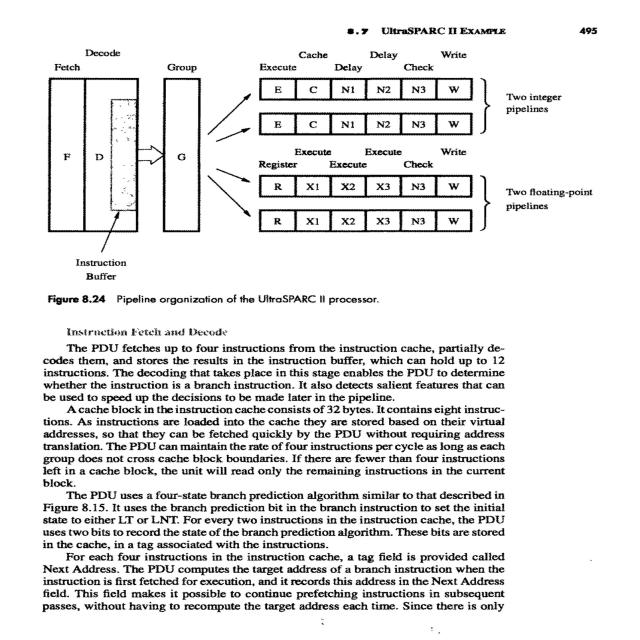diagram: (36, 42, 617, 318)
